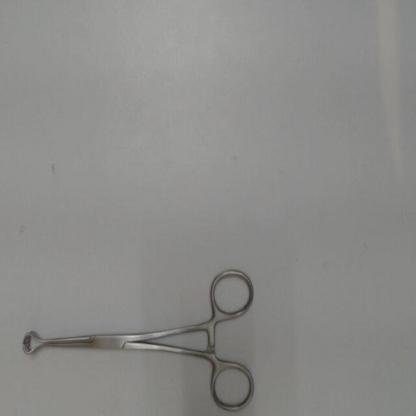Babcock Tissue Forceps: (20, 262, 258, 413)
